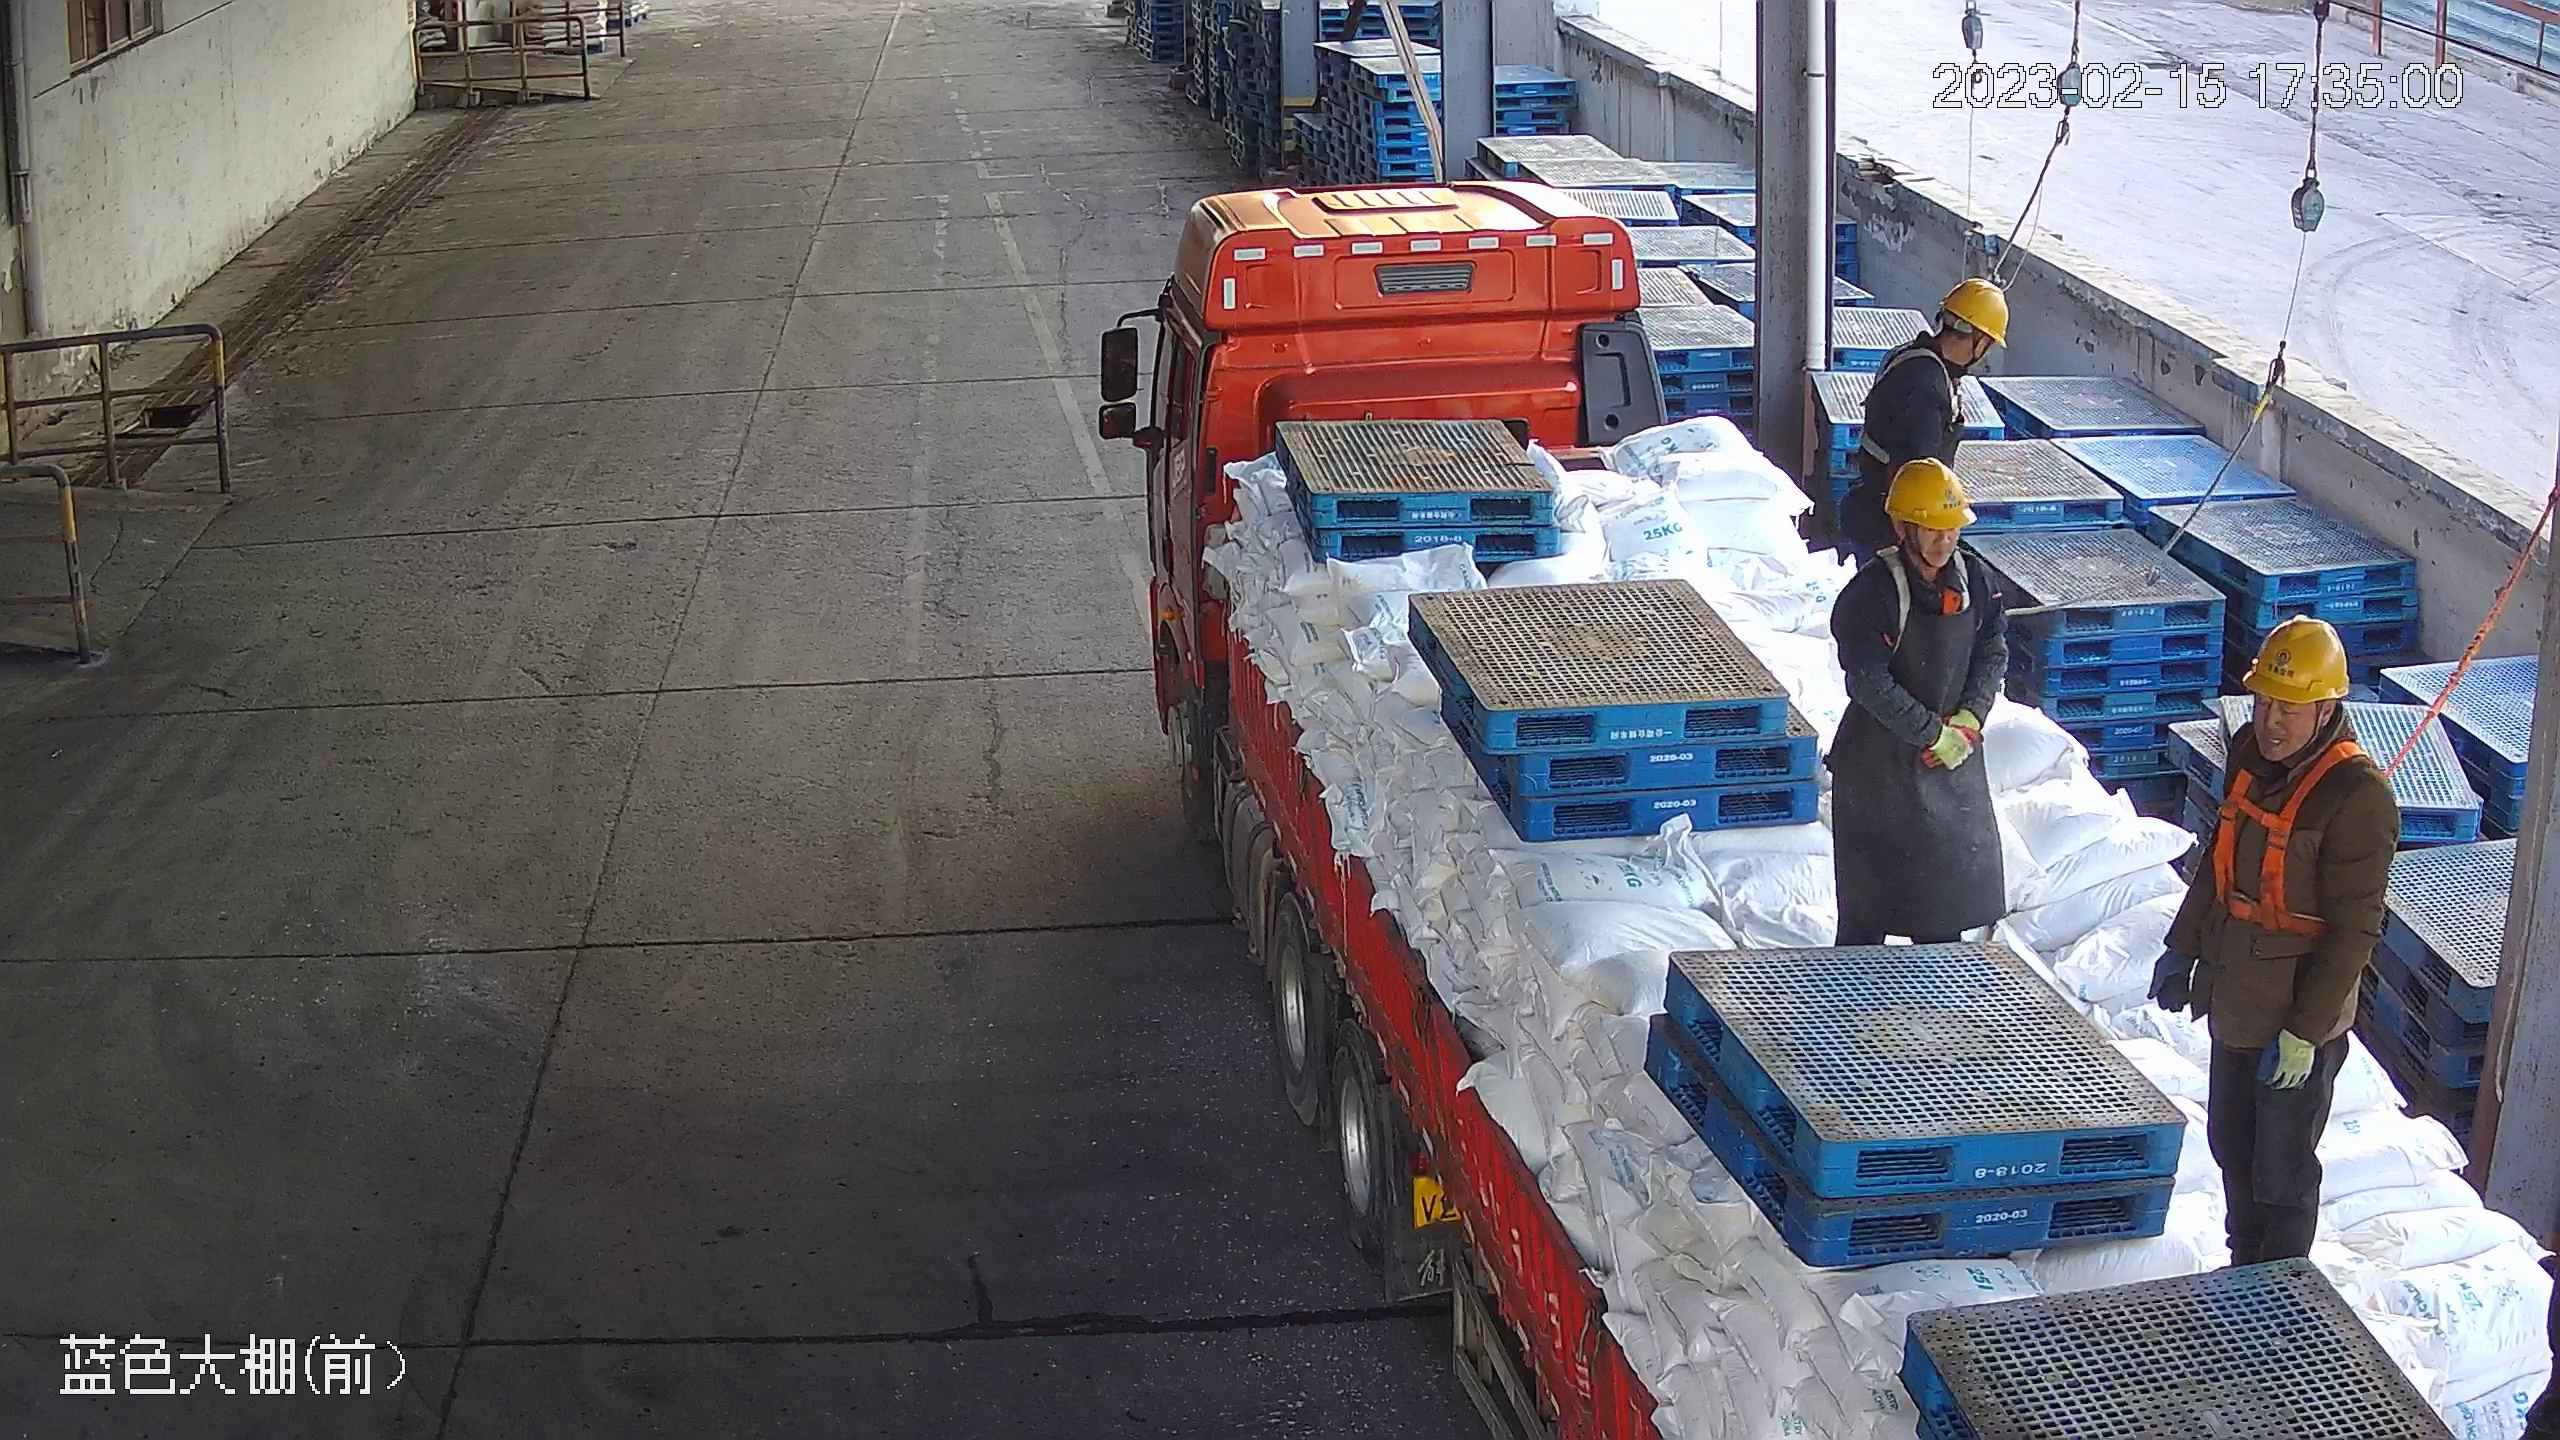belt: (2201, 736, 2389, 940), (1879, 547, 2031, 650), (1855, 344, 1970, 461)
head: (2218, 614, 2399, 847), (1819, 455, 2014, 649), (1879, 278, 2015, 413)
helmet: (2240, 614, 2350, 707), (1885, 455, 1976, 528), (1939, 278, 2009, 349)
people: (2146, 613, 2403, 1265), (1822, 454, 2014, 947)
truck: (1139, 185, 2560, 1440)
